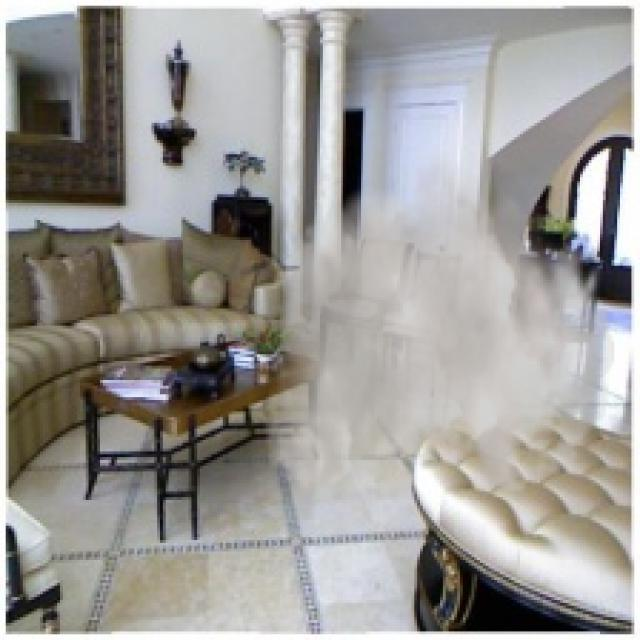Smoke: (262, 140, 614, 509)
